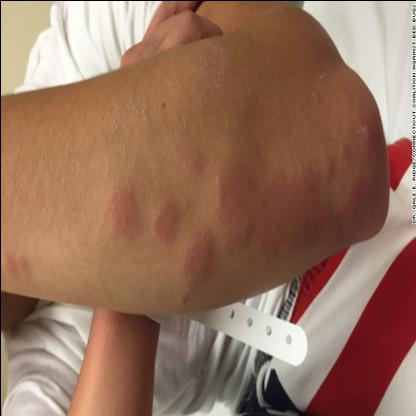Bed Bug: (218, 160, 340, 247), (98, 183, 143, 242), (184, 228, 216, 298), (343, 176, 373, 232), (147, 196, 182, 242), (0, 247, 29, 277), (181, 146, 207, 178), (336, 135, 350, 153)
